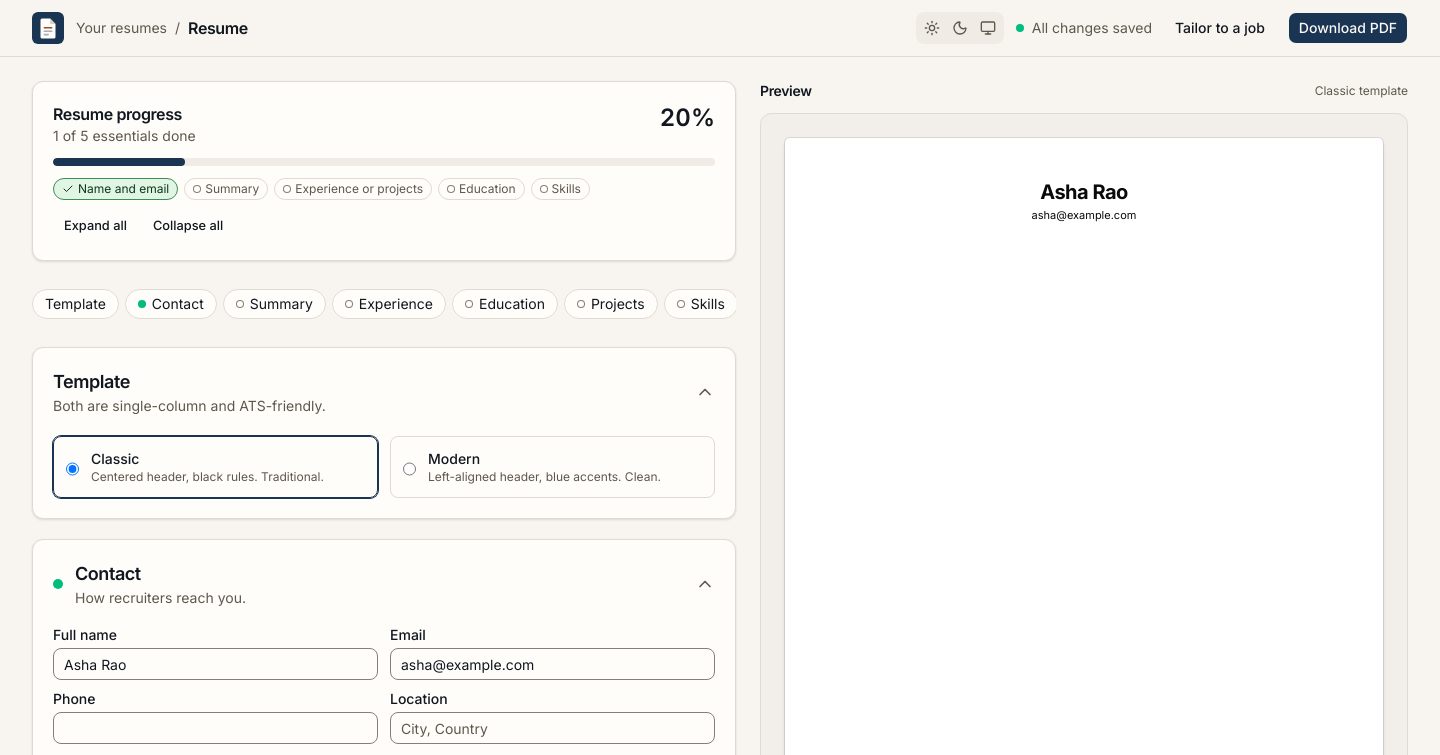
Test: collapsible sections › collapse and expand, with a one-line summary shown while collapsed
Click the button "Contact".
click(108, 574)  # box [75, 560, 141, 588]
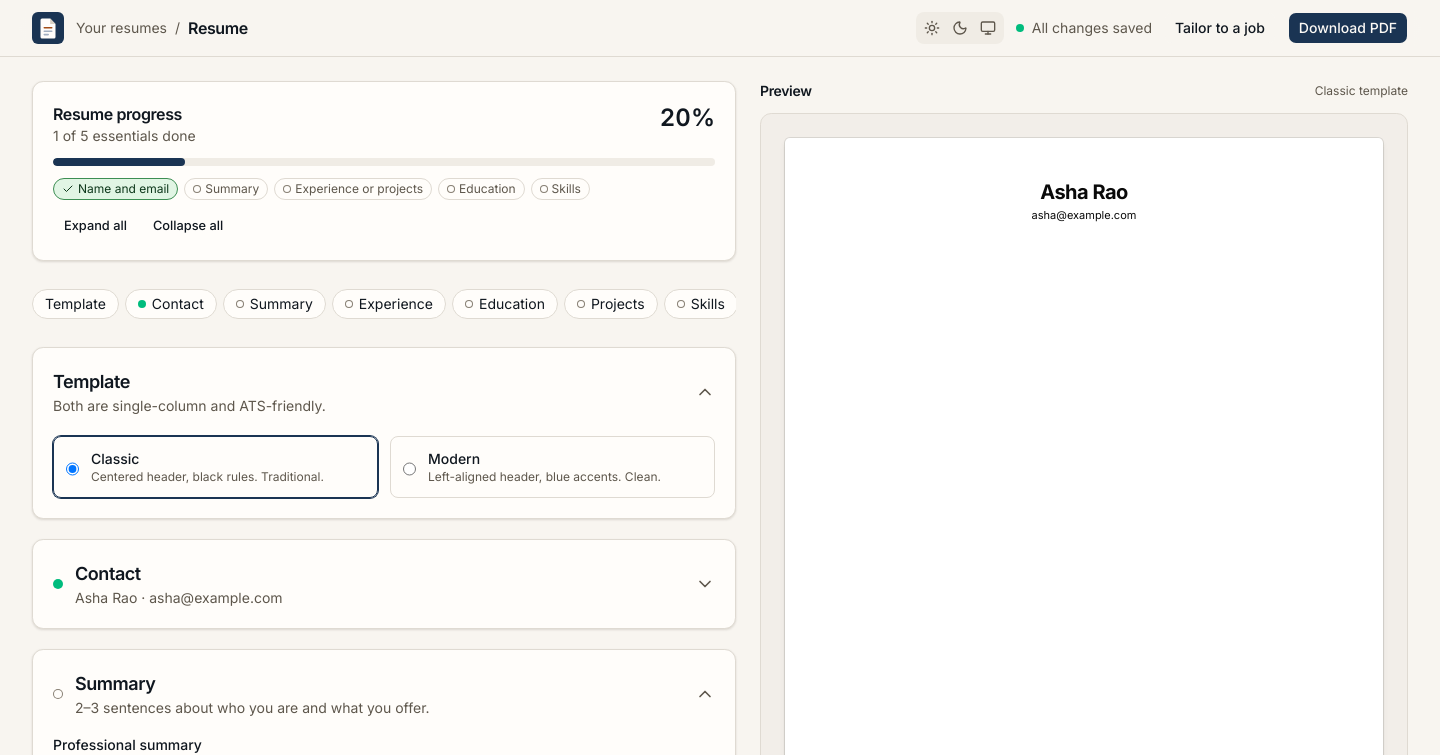
Expected: the text "Asha Rao · asha@example.com" is shown, [75, 589, 283, 606]
Click the button "Contact".
click(108, 574)  # box [75, 560, 141, 588]
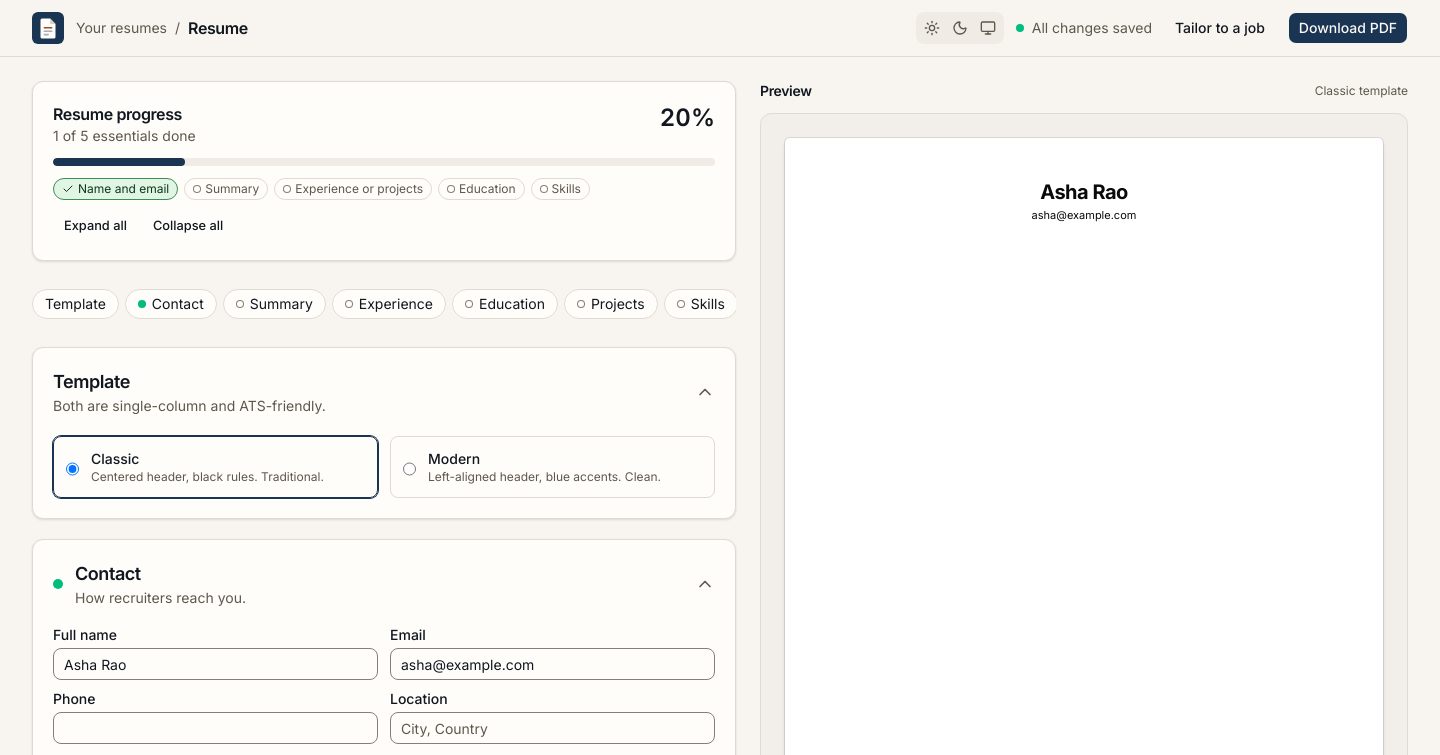
Expected: the text "Asha Rao · asha@example.com" is gone
Expected: the text "How recruiters reach you." is shown, [75, 589, 246, 606]
